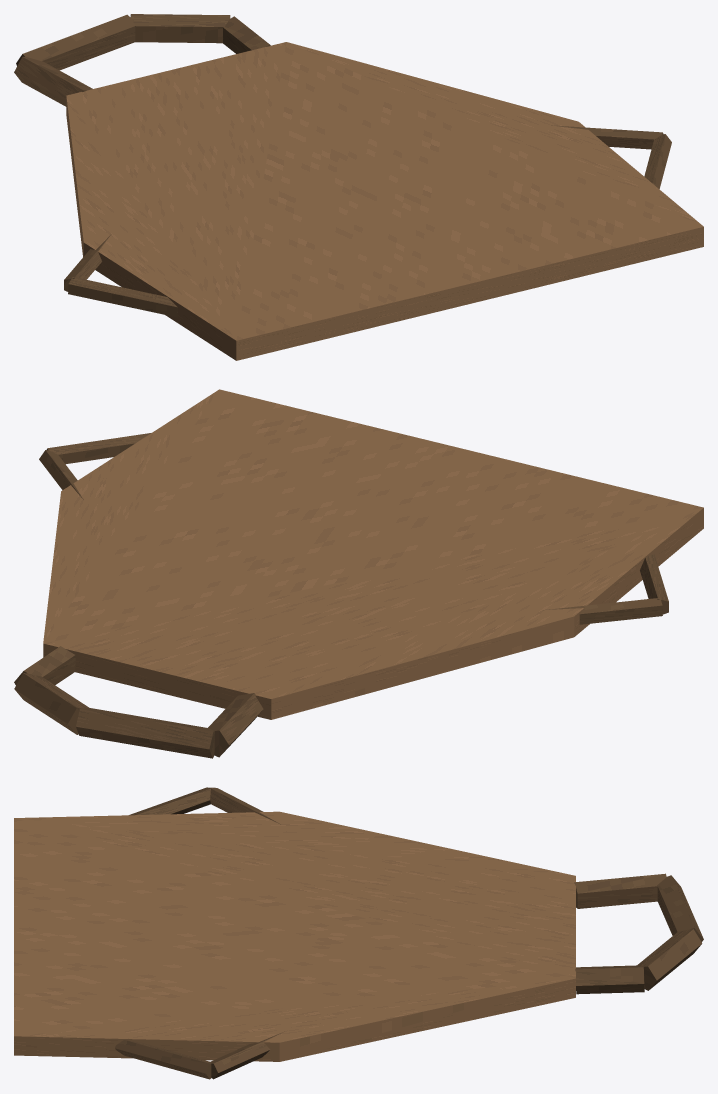
File: apron_leather.glb
3 renders of one model, top to bottom at view 1: azimuth 30°, elevation 25°; view 2: azimuth 150°, elevation 25°; view 3: azimuth 270°, elevation 25°, orthographic. The views are drawn at different scales.
Parts seen in each view (by area): view 1: block_apron panel, block_neck loop 1, block_waist tie 1 (×2), block_neck loop 2, block_waist tie 0 (×2), block_neck loop 0, block_neck loop 3; view 2: block_apron panel, block_neck loop 1, block_waist tie 0 (×2), block_waist tie 1 (×2), block_neck loop 2, block_neck loop 0, block_neck loop 3; view 3: block_apron panel, block_waist tie 1 (×2), block_neck loop 0, block_neck loop 3, block_waist tie 0 (×2), block_neck loop 2, block_neck loop 1.
Part boxes in pixels (<box>): block_apron panel: <box>66,42,703,360</box>; block_neck loop 1: <box>16,14,135,70</box>; block_waist tie 1 (×2): <box>68,134,671,317</box>; block_neck loop 2: <box>130,14,230,43</box>; block_waist tie 0 (×2): <box>64,125,663,291</box>; block_neck loop 0: <box>14,56,92,106</box>; block_neck loop 3: <box>223,16,270,53</box>; block_apron panel: <box>43,389,703,719</box>; block_neck loop 1: <box>76,708,214,758</box>; block_waist tie 0 (×2): <box>39,450,662,624</box>; block_waist tie 1 (×2): <box>46,433,668,614</box>; block_neck loop 2: <box>14,673,89,734</box>; block_neck loop 0: <box>208,693,263,757</box>; block_neck loop 3: <box>14,646,75,685</box>; block_apron panel: <box>14,811,575,1061</box>; block_waist tie 1 (×2): <box>115,787,212,1079</box>; block_neck loop 0: <box>574,873,666,908</box>; block_neck loop 3: <box>575,965,644,994</box>; block_waist tie 0 (×2): <box>209,787,284,1079</box>; block_neck loop 2: <box>637,929,702,990</box>; block_neck loop 1: <box>657,875,703,941</box>.
Size of the model in its own units: 0.6011 by 0.0289 by 0.6224.
Materials: 1 (1 with a texture image).
